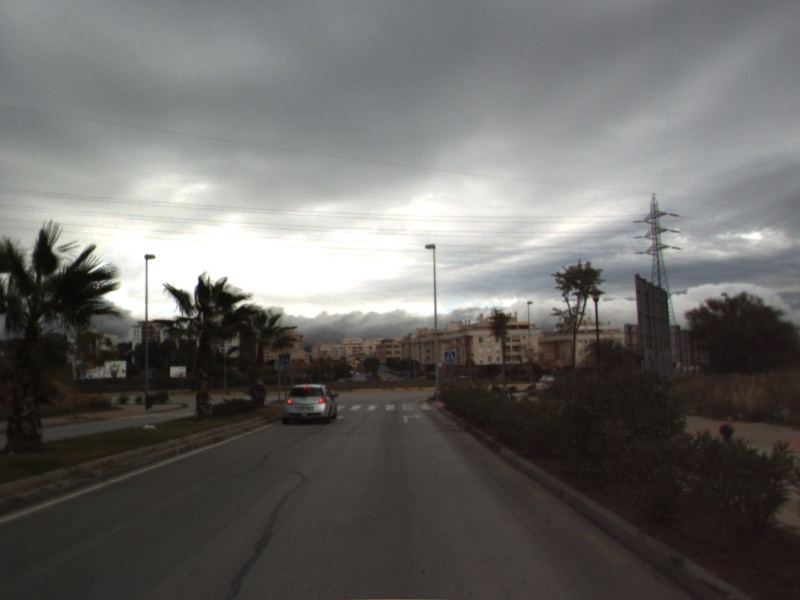RIGHT: (401, 411, 424, 425)
